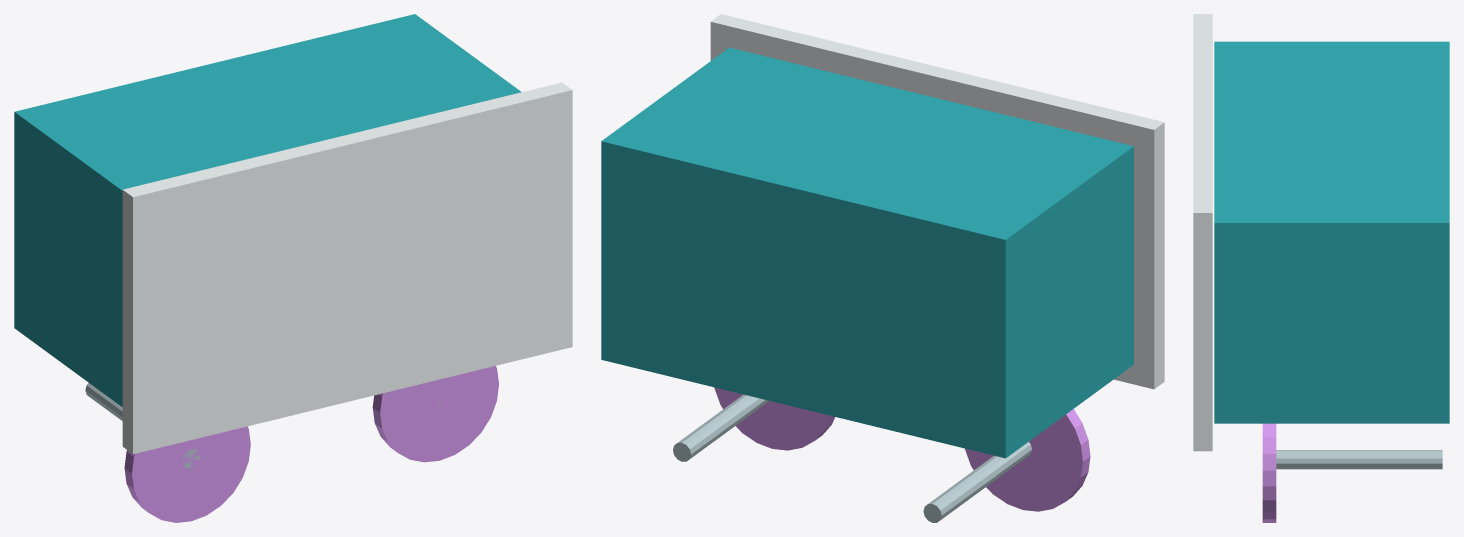
Rendered from kitchen-island-stools.glb.
3 views of the same model, side by side, from view 1: azimuth 30°, elevation 25°; view 2: azimuth 150°, elevation 25°; view 3: azimuth 270°, elevation 25° (orthographic). The views are drawn at different scales.
Visible parts, largest first — view 1: world; view 2: world; view 3: world.
Part boxes in pixels (x1,y1,x2,y2): world: [14, 14, 572, 522]; world: [601, 14, 1164, 522]; world: [1193, 14, 1449, 522].
Bounding box in the file's own units: 1.7 × 1.39 × 0.925.
